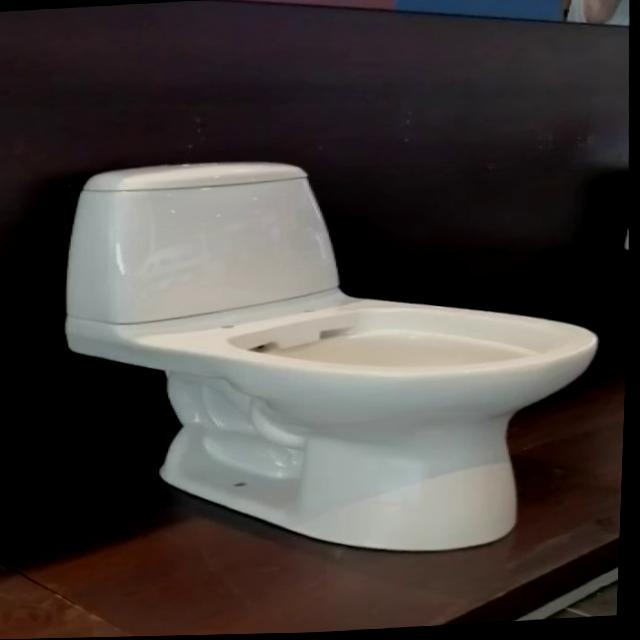toilet: (53, 141, 613, 572)
